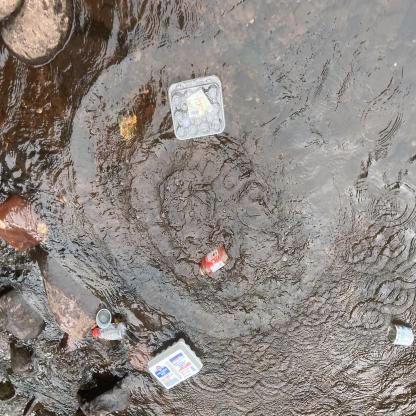Glass: (196, 244, 233, 278)
Metal: (382, 320, 416, 349), (117, 109, 143, 140)
Plastic: (164, 71, 230, 143), (141, 333, 208, 393), (88, 308, 131, 346)
